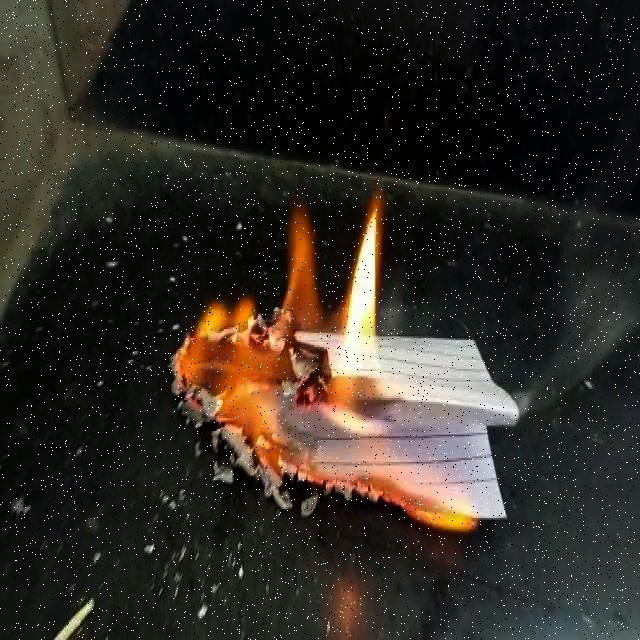fire: (166, 179, 418, 474)
